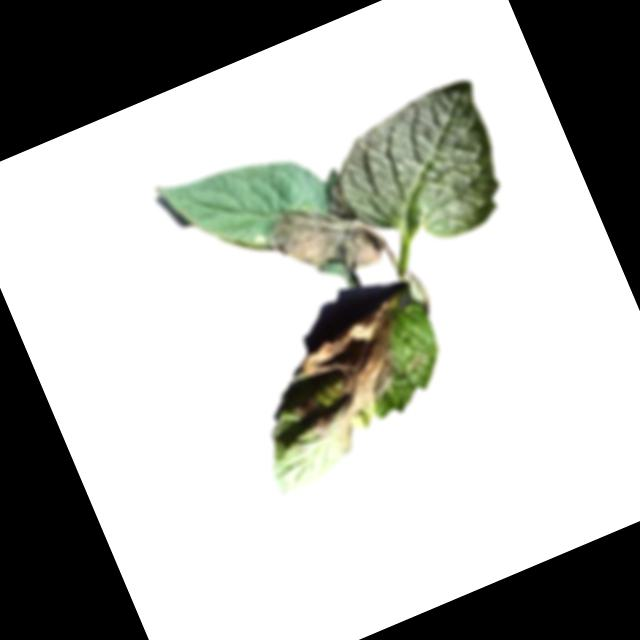Late_blight: (262, 293, 447, 468), (260, 179, 390, 299)
